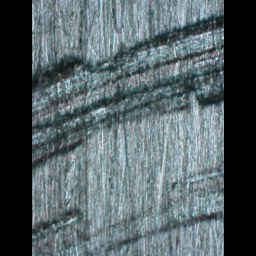d: (35, 7, 223, 171), (99, 167, 223, 247), (32, 201, 89, 255)
